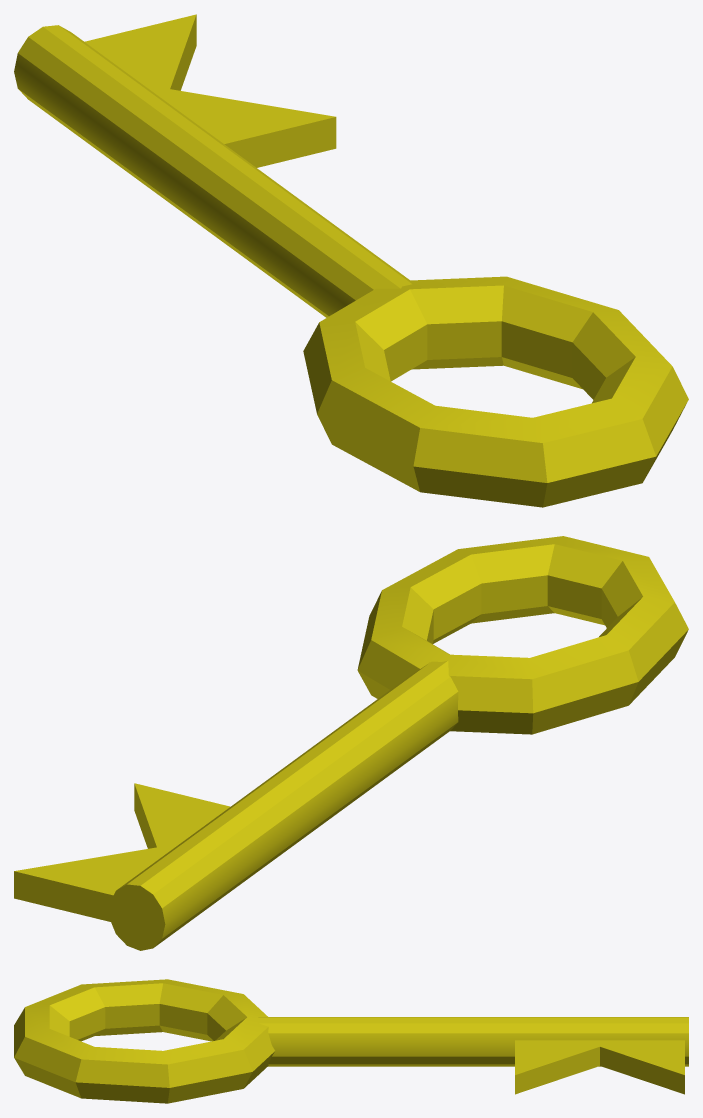
Rendered from key.fbx.
3 renders of one model, top to bottom at view 1: azimuth 30°, elevation 25°; view 2: azimuth 150°, elevation 25°; view 3: azimuth 270°, elevation 25°, orthographic. The views are drawn at different scales.
Parts seen in each view (by area): view 1: Cylinder; view 2: Cylinder; view 3: Cylinder.
Part boxes in pixels (x1,y1,x2,y2): Cylinder: (14,14,688,507); Cylinder: (14,536,688,950); Cylinder: (14,979,688,1103).
Size of the model in its own units: 0.1601 by 0.0392 by 0.4913.
